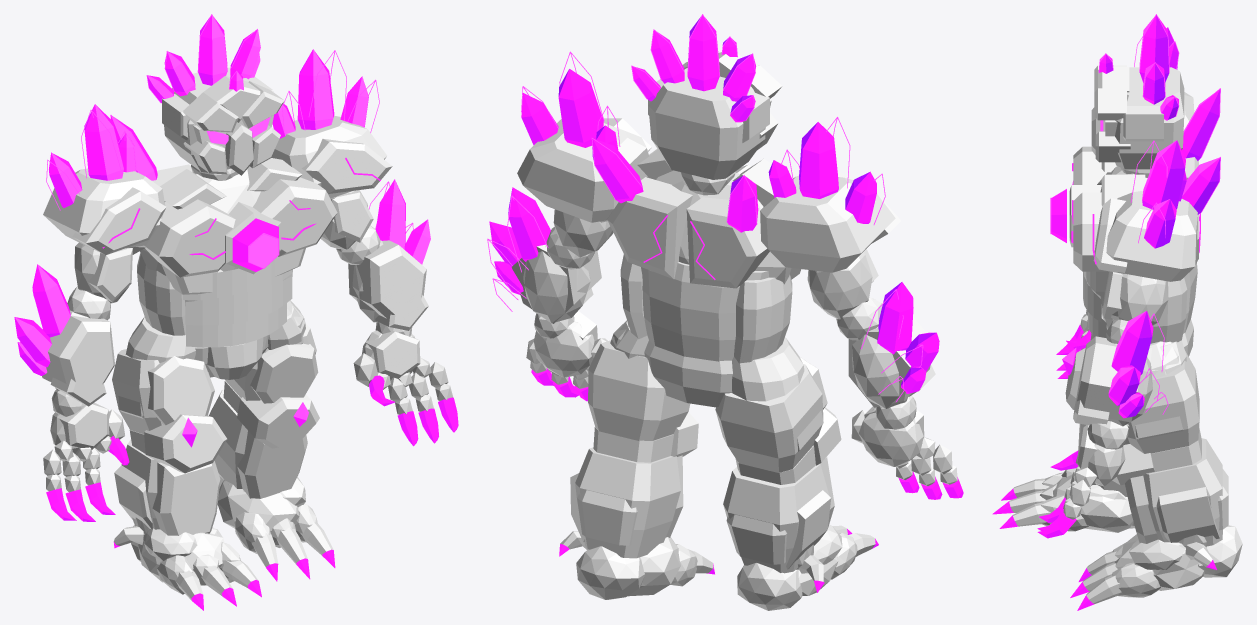
File: CrystalGolem.glb
The picture shows the model from 3 angles, left to right: view 1: azimuth 30°, elevation 25°; view 2: azimuth 150°, elevation 25°; view 3: azimuth 270°, elevation 25°; orthographic projection. The views are drawn at different scales.
Parts seen in each view (by area): view 1: Heavy_Thigh_Main_R, Pectoral_L, Heavy_Shin_Main_L, Forearm_Guard_R, Forearm_Guard_L, Pectoral_R, Shoulder_Shell_L, Heavy_Thigh_Main_L, Shoulder_Front_R, Heavy_Knee_Shield_L, Shoulder_Front_L, Balanced_Middle_Abdominal_Shell (+50 smaller); view 2: Heavy_Thigh_Main_R, Helmet_Shell, Shoulder_Shell_L, Balanced_Continuous_Abdomen, Heavy_Thigh_Core_L, Shoulder_Shell_R, Back_Armor_R, Back_Armor_L, Heavy_Calf_Core_L, Balanced_Flank_L, Balanced_Pelvis, Balanced_Hip_L (+37 smaller); view 3: Heavy_Thigh_Main_R, Shoulder_Shell_R, Helmet_Shell, Forearm_Guard_R, Shoulder_Main_Crystal_R, Upper_Arm_R, Pectoral_R, Beast_Foot_L, Forearm_Main_Crystal_R, Back_Crystal_L, Balanced_Flank_R, Helmet_Temple_R (+31 smaller).
Boxes of the visible parts, left/top/right/bottom form: Heavy_Thigh_Main_R: left=209, top=300, right=335, bottom=581; Pectoral_L: left=144, top=199, right=235, bottom=277; Heavy_Shin_Main_L: left=152, top=461, right=220, bottom=535; Forearm_Guard_R: left=348, top=240, right=426, bottom=318; Forearm_Guard_L: left=42, top=315, right=114, bottom=390; Pectoral_R: left=253, top=177, right=337, bottom=256; Shoulder_Shell_L: left=43, top=168, right=165, bottom=249; Heavy_Thigh_Main_L: left=147, top=356, right=214, bottom=425; Shoulder_Front_R: left=301, top=138, right=392, bottom=193; Heavy_Knee_Shield_L: left=144, top=414, right=227, bottom=473; Shoulder_Front_L: left=72, top=187, right=166, bottom=255; Balanced_Middle_Abdominal_Shell: left=185, top=276, right=292, bottom=325; Heavy_Thigh_Main_R: left=559, top=320, right=714, bottom=599; Helmet_Shell: left=648, top=68, right=765, bottom=179; Shoulder_Shell_L: left=760, top=175, right=895, bottom=272; Balanced_Continuous_Abdomen: left=641, top=262, right=769, bottom=361; Heavy_Thigh_Core_L: left=715, top=364, right=823, bottom=472; Shoulder_Shell_R: left=517, top=119, right=649, bottom=222; Back_Armor_R: left=607, top=177, right=692, bottom=279; Back_Armor_L: left=686, top=197, right=769, bottom=288; Heavy_Calf_Core_L: left=723, top=464, right=829, bottom=573; Balanced_Flank_L: left=734, top=274, right=792, bottom=363; Balanced_Pelvis: left=644, top=340, right=732, bottom=407; Balanced_Hip_L: left=732, top=337, right=804, bottom=401; Heavy_Thigh_Main_R: left=1070, top=341, right=1242, bottom=610; Shoulder_Shell_R: left=1106, top=191, right=1197, bottom=281; Helmet_Shell: left=1115, top=67, right=1184, bottom=169; Forearm_Guard_R: left=1075, top=336, right=1138, bottom=422; Shoulder_Main_Crystal_R: left=1142, top=140, right=1185, bottom=209; Upper_Arm_R: left=1111, top=273, right=1168, bottom=325; Pectoral_R: left=1073, top=192, right=1108, bottom=271; Beast_Foot_L: left=1052, top=474, right=1133, bottom=532; Forearm_Main_Crystal_R: left=1111, top=310, right=1153, bottom=374; Back_Crystal_L: left=1182, top=89, right=1220, bottom=160; Balanced_Flank_R: left=1112, top=278, right=1187, bottom=343; Helmet_Temple_R: left=1123, top=106, right=1163, bottom=141.
Bounding box in the file's own units: 3.91 × 4.98 × 2.03.
